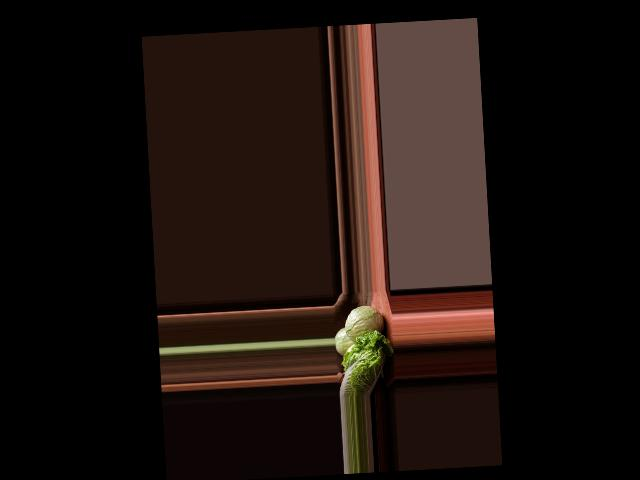lettuce: (338, 329, 396, 396)
